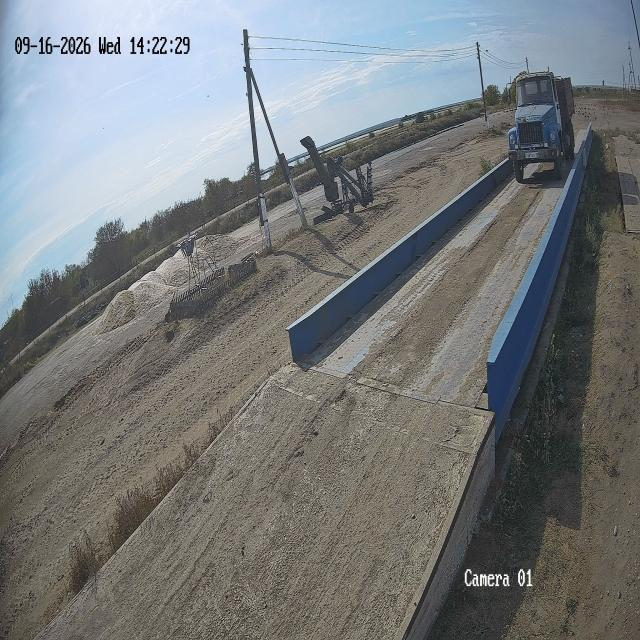license plate: (524, 151, 540, 158)
truck: (508, 72, 574, 181)
